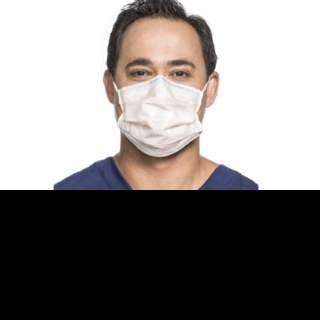with_mask: (114, 53, 205, 156)
